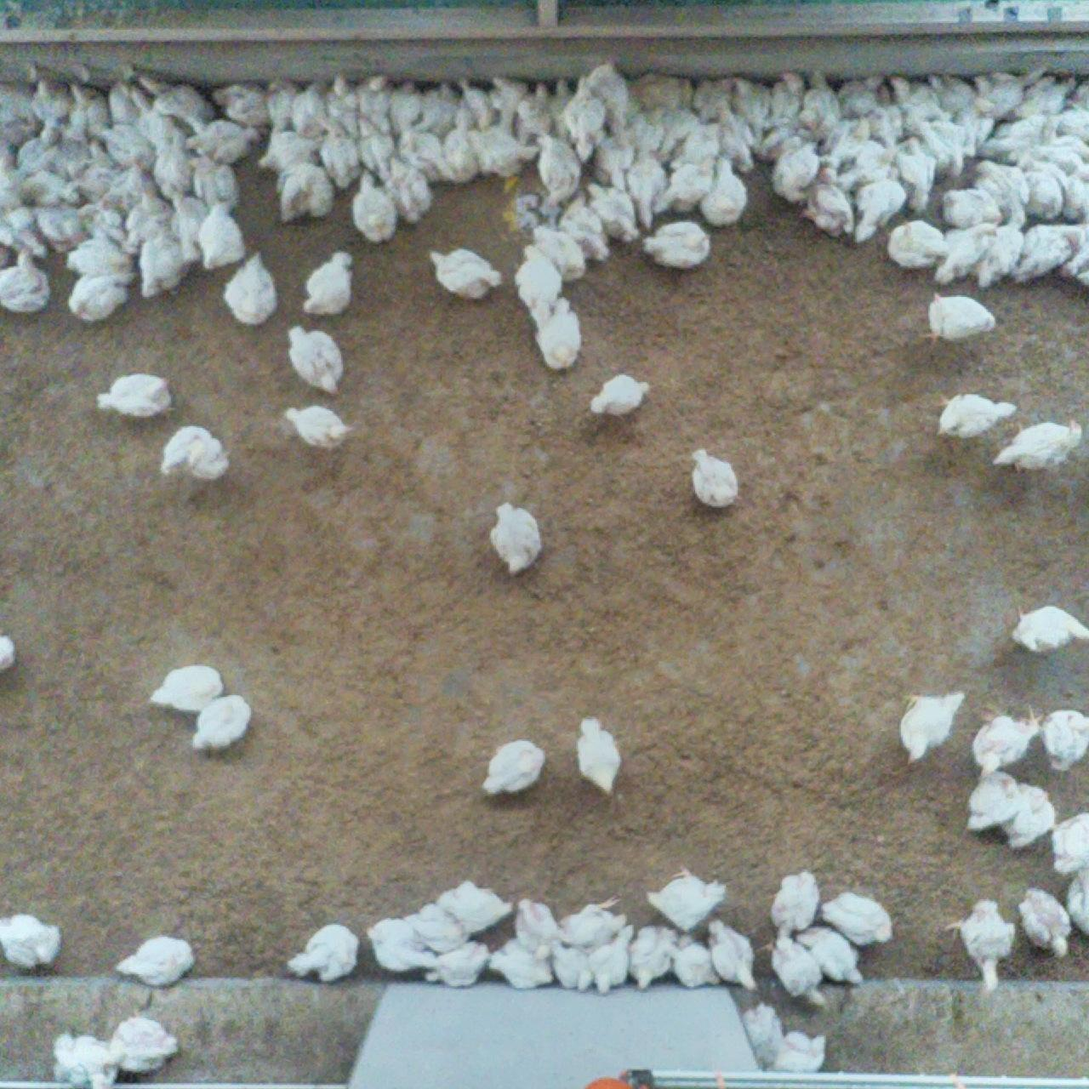chicken: (945, 896, 1018, 993), (643, 866, 730, 931), (760, 929, 827, 1009), (974, 703, 1045, 777), (990, 417, 1085, 471), (849, 167, 908, 247), (897, 687, 962, 759), (934, 387, 1019, 442), (6, 121, 78, 185), (284, 923, 362, 982), (789, 924, 864, 985), (105, 1015, 180, 1076), (114, 933, 197, 988), (920, 290, 997, 349), (486, 499, 546, 574), (148, 665, 225, 723), (435, 879, 514, 935), (931, 221, 999, 286), (285, 324, 345, 397), (222, 250, 279, 326), (50, 1029, 122, 1089), (359, 915, 436, 971), (1008, 602, 1089, 655), (157, 422, 231, 480), (60, 140, 127, 204), (706, 914, 760, 993), (513, 243, 565, 324), (971, 158, 1031, 228), (970, 211, 1027, 284), (0, 909, 63, 975), (422, 935, 493, 993), (533, 297, 587, 373), (90, 370, 172, 420), (138, 72, 215, 125), (800, 168, 856, 240), (653, 153, 717, 216), (276, 160, 338, 225), (139, 228, 194, 301), (1000, 782, 1058, 851), (1020, 887, 1074, 961), (562, 76, 609, 161), (427, 247, 502, 300), (1014, 221, 1073, 288), (480, 739, 548, 797), (302, 249, 359, 318), (820, 891, 894, 944), (573, 715, 622, 794), (975, 66, 1048, 119), (67, 269, 137, 324), (486, 937, 556, 992), (1031, 707, 1089, 773), (63, 227, 135, 280), (198, 200, 248, 276), (769, 134, 823, 204), (0, 247, 54, 317), (192, 694, 253, 755), (128, 84, 184, 150), (967, 768, 1023, 834), (582, 178, 639, 242), (349, 168, 397, 244), (559, 896, 629, 948), (465, 124, 539, 173), (586, 923, 635, 997), (687, 444, 741, 510), (183, 117, 262, 162), (582, 59, 635, 126), (400, 902, 468, 954), (1009, 154, 1064, 218), (625, 149, 669, 229), (626, 921, 676, 991), (698, 156, 746, 228), (640, 221, 712, 269), (99, 163, 163, 217), (382, 154, 432, 223), (90, 120, 156, 172), (558, 194, 607, 264), (535, 137, 583, 207), (893, 137, 936, 214), (442, 107, 485, 184), (889, 71, 945, 130), (1036, 157, 1089, 219), (739, 1002, 785, 1073), (773, 868, 820, 936), (648, 101, 704, 158), (531, 223, 585, 282), (515, 896, 565, 959), (284, 403, 351, 450), (658, 937, 722, 986), (1012, 74, 1081, 119), (884, 221, 947, 270), (34, 201, 91, 255), (185, 155, 243, 208), (712, 102, 754, 175), (916, 116, 966, 177), (865, 83, 910, 150), (210, 82, 276, 127), (1046, 807, 1089, 876), (840, 143, 901, 191), (317, 122, 362, 187), (149, 134, 194, 199), (398, 128, 449, 185), (976, 114, 1046, 155), (28, 75, 75, 136), (819, 115, 874, 167), (20, 167, 85, 211), (590, 372, 655, 416), (800, 68, 841, 137), (0, 205, 52, 259), (257, 128, 318, 174), (545, 939, 595, 995), (128, 192, 176, 250), (1026, 138, 1089, 182), (728, 74, 774, 134), (594, 125, 636, 190), (355, 116, 397, 181), (767, 1032, 828, 1076), (322, 73, 363, 137), (106, 83, 154, 137), (68, 84, 116, 138), (518, 80, 560, 141), (489, 72, 531, 133), (620, 109, 665, 165), (1036, 134, 1089, 181), (941, 188, 1003, 228), (545, 77, 587, 136), (0, 80, 38, 145), (169, 189, 215, 242), (417, 82, 462, 136), (950, 98, 997, 149), (632, 72, 690, 113), (453, 75, 496, 129), (262, 77, 304, 132), (674, 122, 720, 172), (77, 201, 128, 246), (768, 68, 806, 128), (290, 80, 329, 138), (836, 73, 888, 116), (389, 77, 427, 135), (1060, 860, 1089, 934), (692, 75, 736, 122), (928, 70, 973, 113), (354, 73, 392, 123), (1063, 215, 1089, 286), (756, 124, 802, 164), (0, 140, 20, 210), (1055, 108, 1089, 144), (0, 630, 20, 676), (1067, 80, 1089, 112)
